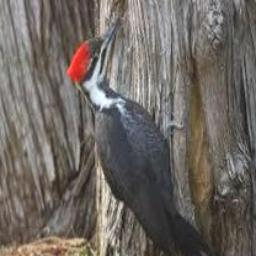Woodpecker: (65, 13, 219, 256)
